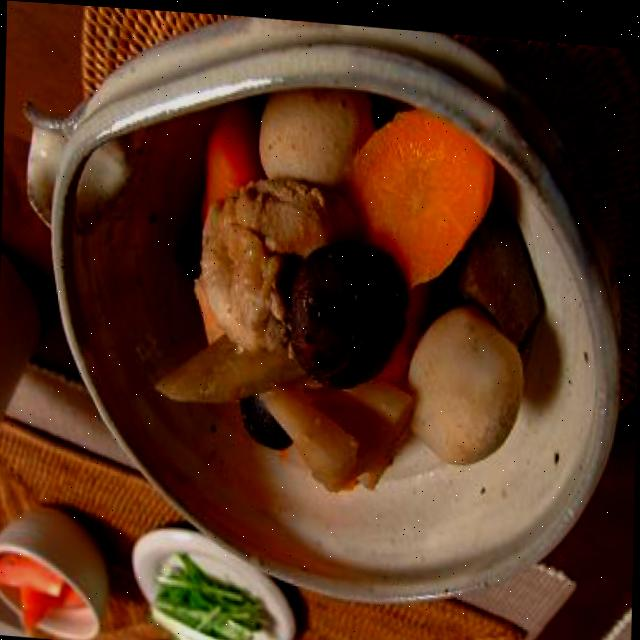鸡肉料理 含炸鸡: (6, 0, 623, 608)
